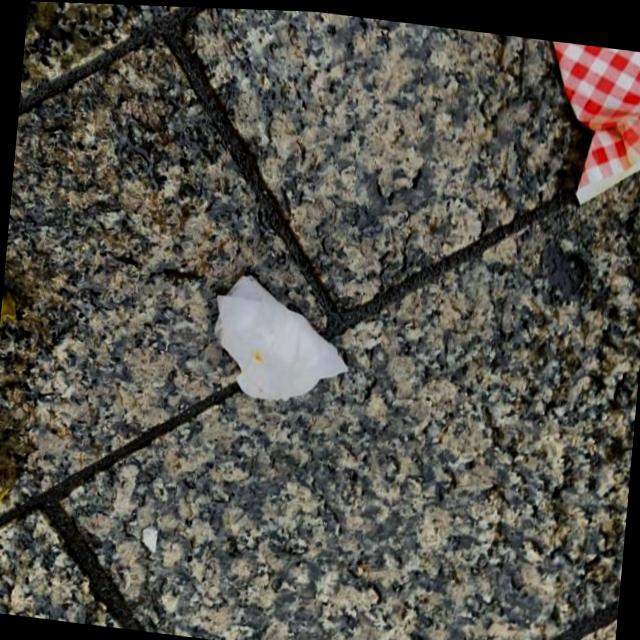Paper: (204, 262, 356, 408), (531, 33, 640, 209)
